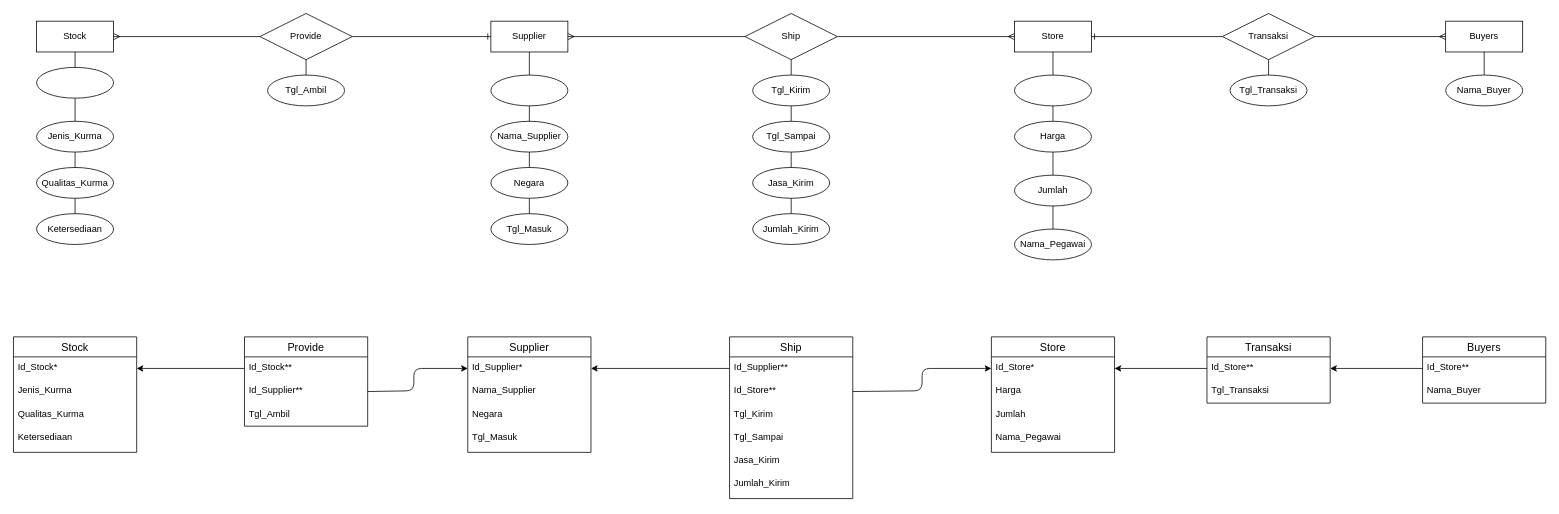
The diagram is 1559 pixels wide and 514 high, and some of its shapes have lost their labels. Each missing label, with the centre of its shape:
Id_Stock: the point at 75,82
Id_Store: the point at 1052,90
Id_Supplier: the point at 529,90
